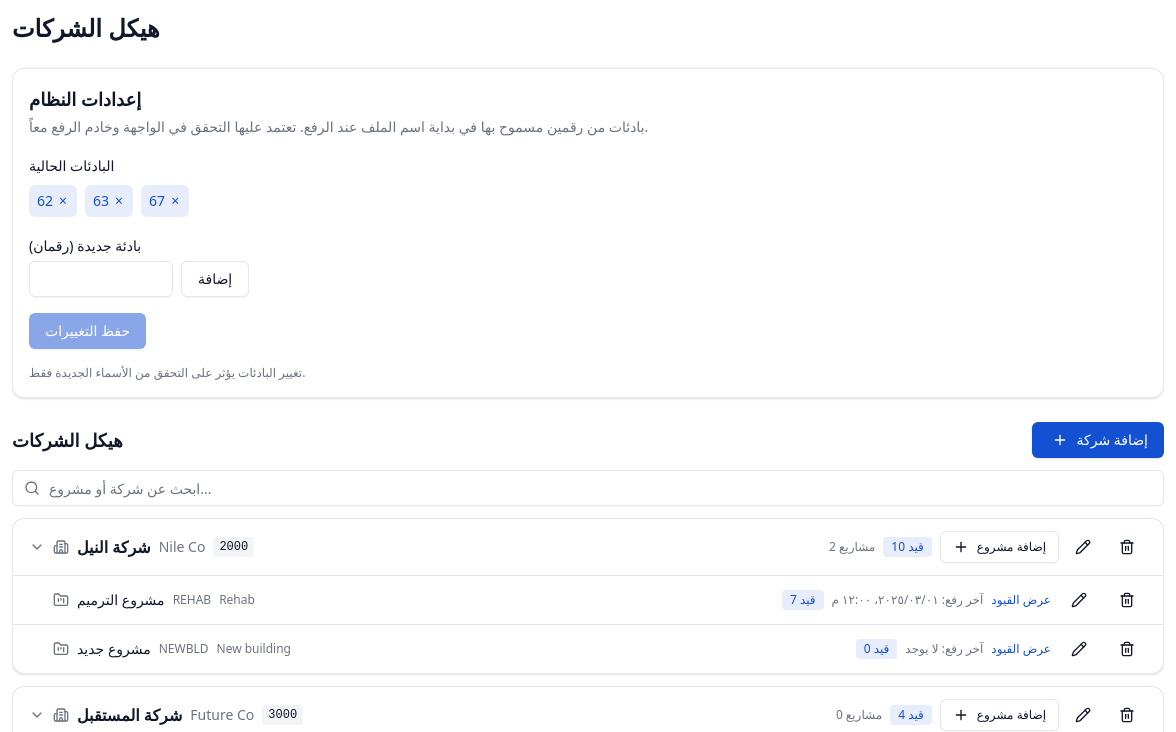
Test: AdminStructurePage › prefix save regression: PUT is sent, chips keep the new list, save disables
expect the text "62" is shown: met, box [37, 191, 53, 211]
Type "99" into the field labelled "بادئة جديدة (رقمان)" at (101, 279), box [29, 261, 173, 297]
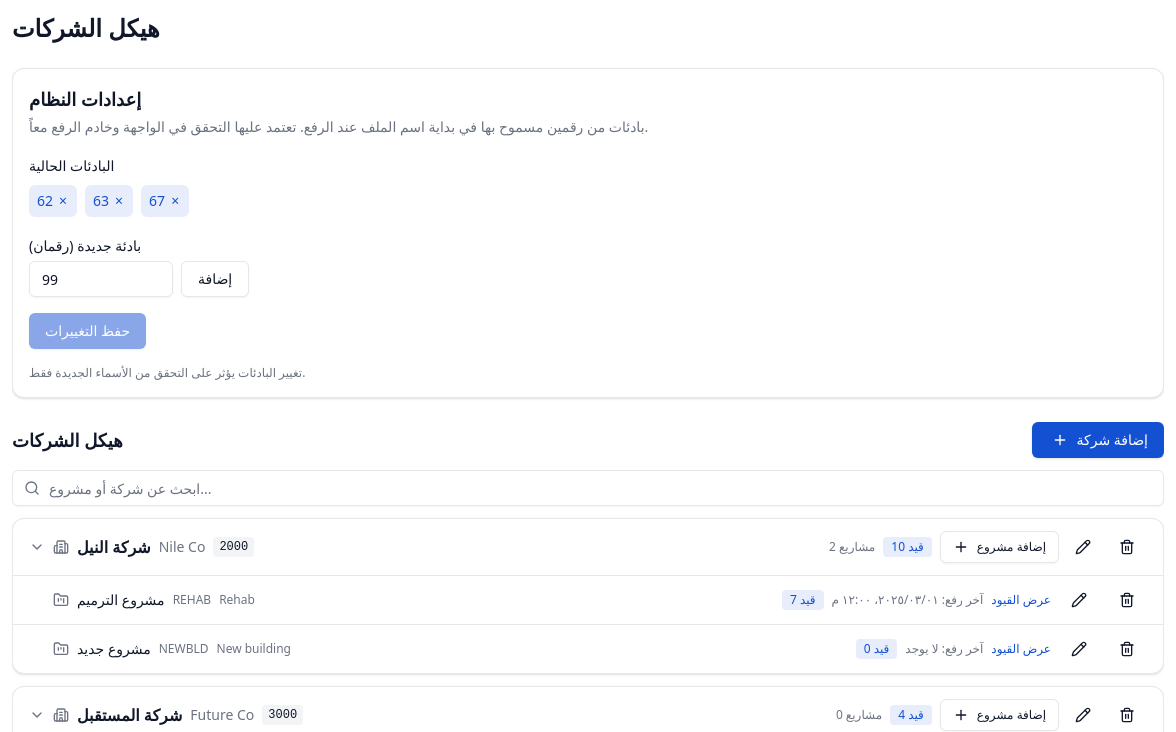
Click the button "إضافة" at (215, 279), box [181, 261, 249, 297]
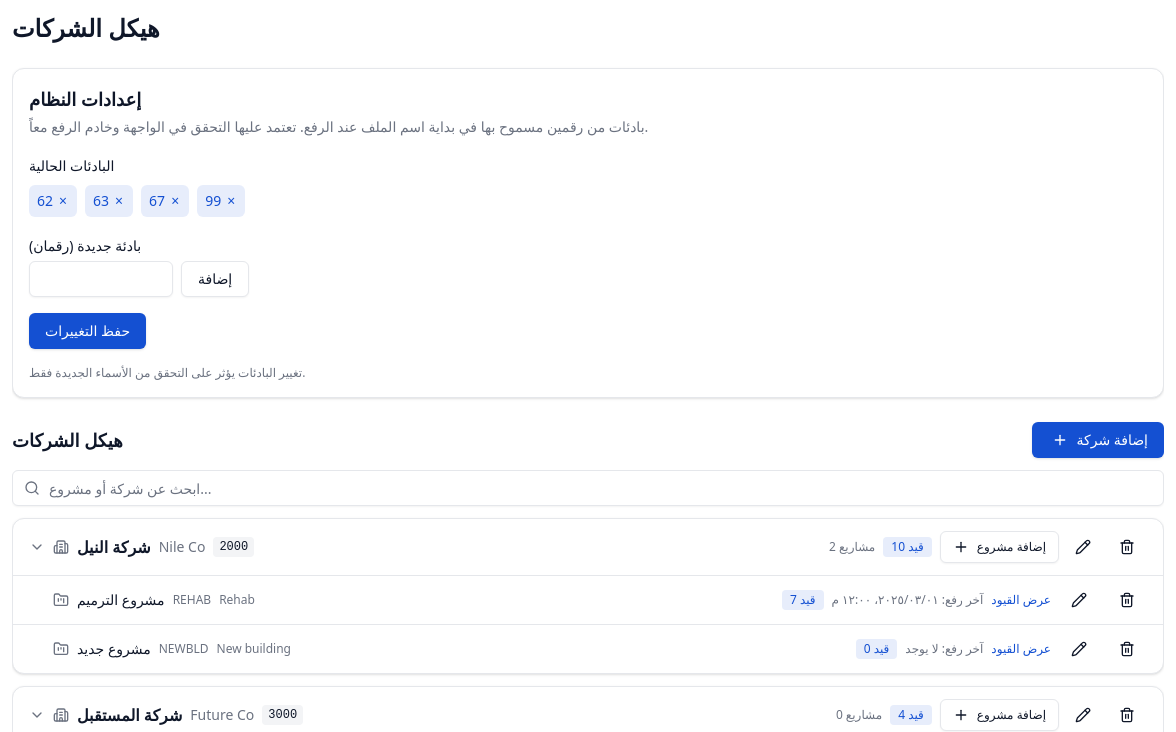
expect the text "99" is shown: met, box [205, 191, 221, 211]
expect the button "حفظ التغييرات" is enabled: met
Click the button "حفظ التغييرات" at (88, 331), box [29, 313, 146, 349]
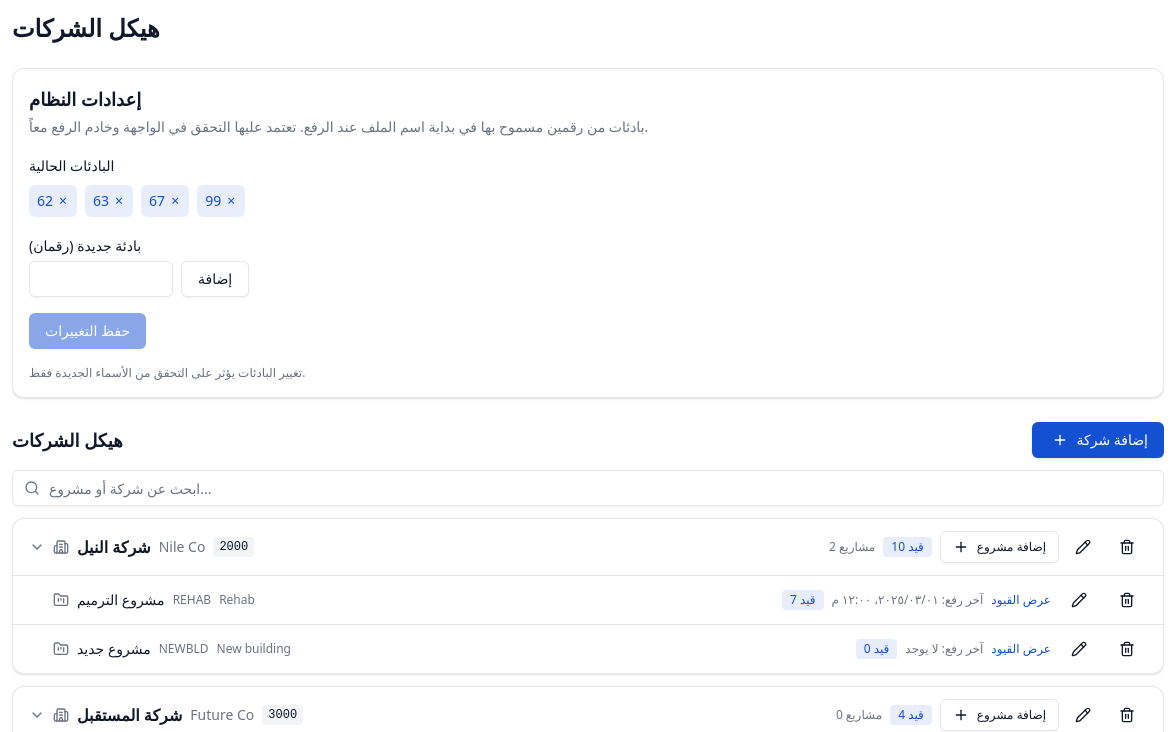
expect the text "62" is shown: met, box [37, 191, 53, 211]
expect the text "99" is shown: met, box [205, 191, 221, 211]
expect the button "حفظ التغييرات" is disabled: met, box [29, 313, 146, 349]
